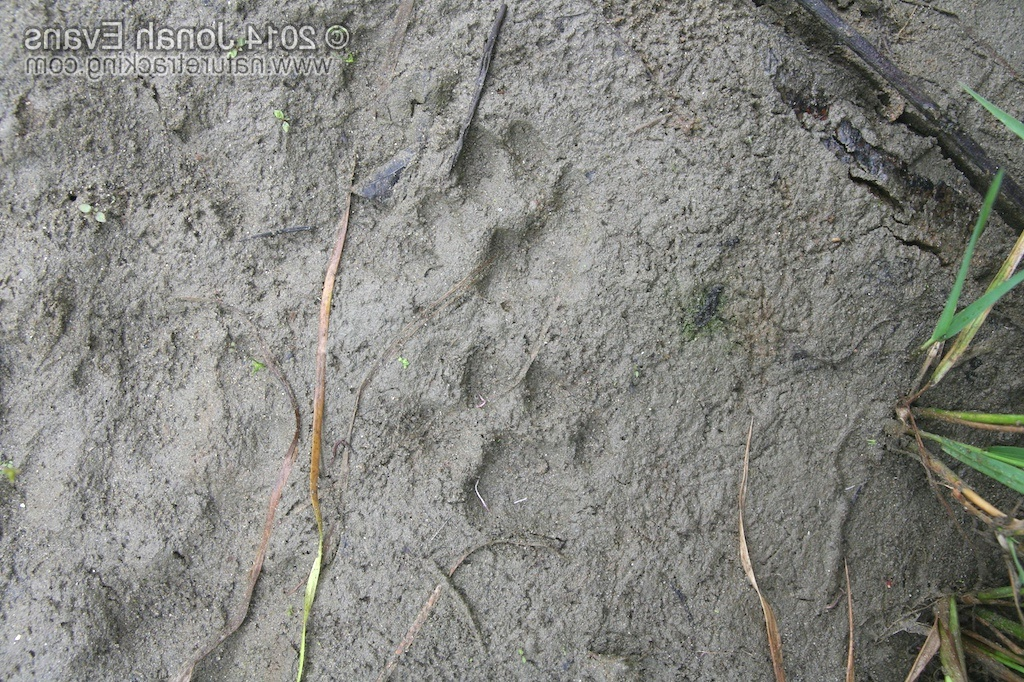lynx: (393, 112, 668, 554)
